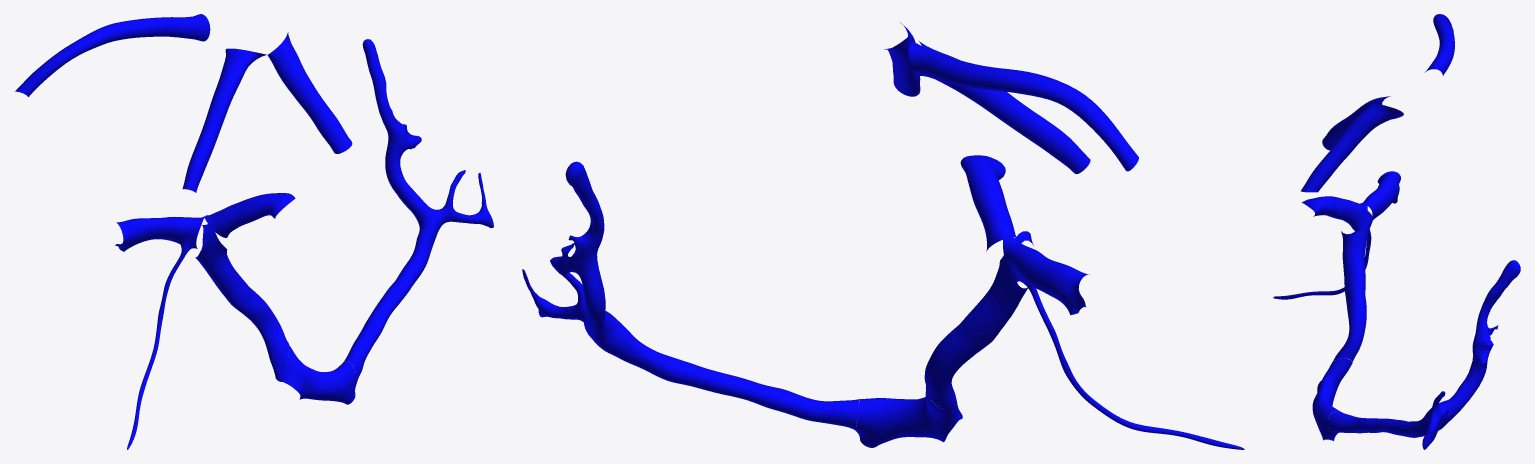
Rendered from hra-female-abdomen-venous-01.glb.
3 views of the same model, side by side, from view 1: azimuth 30°, elevation 25°; view 2: azimuth 150°, elevation 25°; view 3: azimuth 270°, elevation 25° (orthographic). The views are drawn at different scales.
Visible parts, largest first — view 1: VH_F_splenic_vein, VH_F_hepatic_portal_vein, VH_F_right_hepatic_vein, VH_F_middle_hepatic_vein, VH_F_left_hepatic_vein, VH_F_right_branch_of_portal_vein, VH_F_left_branch_of_portal_vein, VH_F_cystic_vein; view 2: VH_F_splenic_vein, VH_F_right_hepatic_vein, VH_F_hepatic_portal_vein, VH_F_middle_hepatic_vein, VH_F_right_branch_of_portal_vein, VH_F_left_branch_of_portal_vein, VH_F_cystic_vein, VH_F_left_hepatic_vein; view 3: VH_F_splenic_vein, VH_F_hepatic_portal_vein, VH_F_left_hepatic_vein, VH_F_left_branch_of_portal_vein, VH_F_right_branch_of_portal_vein, VH_F_right_hepatic_vein, VH_F_middle_hepatic_vein, VH_F_cystic_vein.
Boxes of the visible parts, left/top/right/bottom form: VH_F_splenic_vein: left=278, top=39, right=493, bottom=404; VH_F_hepatic_portal_vein: left=195, top=223, right=289, bottom=380; VH_F_right_hepatic_vein: left=15, top=14, right=210, bottom=96; VH_F_middle_hepatic_vein: left=182, top=48, right=267, bottom=192; VH_F_left_hepatic_vein: left=267, top=32, right=352, bottom=153; VH_F_right_branch_of_portal_vein: left=115, top=216, right=204, bottom=251; VH_F_left_branch_of_portal_vein: left=204, top=193, right=295, bottom=237; VH_F_cystic_vein: left=127, top=245, right=190, bottom=449; VH_F_splenic_vein: left=522, top=161, right=962, bottom=447; VH_F_right_hepatic_vein: left=908, top=42, right=1138, bottom=171; VH_F_hepatic_portal_vein: left=924, top=231, right=1033, bottom=419; VH_F_middle_hepatic_vein: left=905, top=41, right=1090, bottom=174; VH_F_right_branch_of_portal_vein: left=1003, top=237, right=1088, bottom=315; VH_F_left_branch_of_portal_vein: left=960, top=155, right=1017, bottom=251; VH_F_cystic_vein: left=1024, top=284, right=1244, bottom=449; VH_F_left_hepatic_vein: left=884, top=22, right=920, bottom=96; VH_F_splenic_vein: left=1312, top=260, right=1520, bottom=449; VH_F_hepatic_portal_vein: left=1332, top=211, right=1372, bottom=362; VH_F_left_hepatic_vein: left=1301, top=103, right=1403, bottom=192; VH_F_left_branch_of_portal_vein: left=1302, top=196, right=1367, bottom=231; VH_F_right_branch_of_portal_vein: left=1363, top=171, right=1400, bottom=220; VH_F_right_hepatic_vein: left=1424, top=14, right=1454, bottom=75; VH_F_middle_hepatic_vein: left=1322, top=96, right=1390, bottom=150; VH_F_cystic_vein: left=1273, top=229, right=1371, bottom=299.
Bounding box in the file's own units: 0.1889 × 0.1447 × 0.0956.
